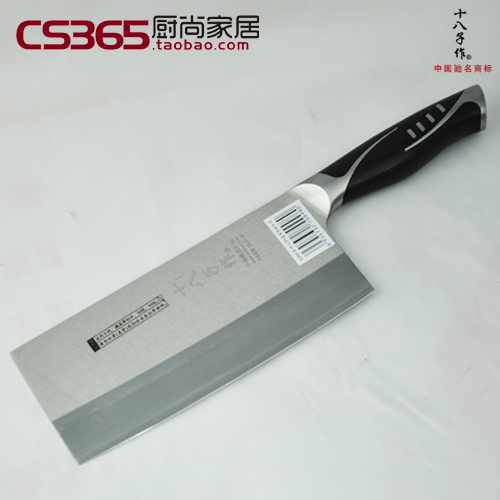knief: (20, 82, 487, 458)
